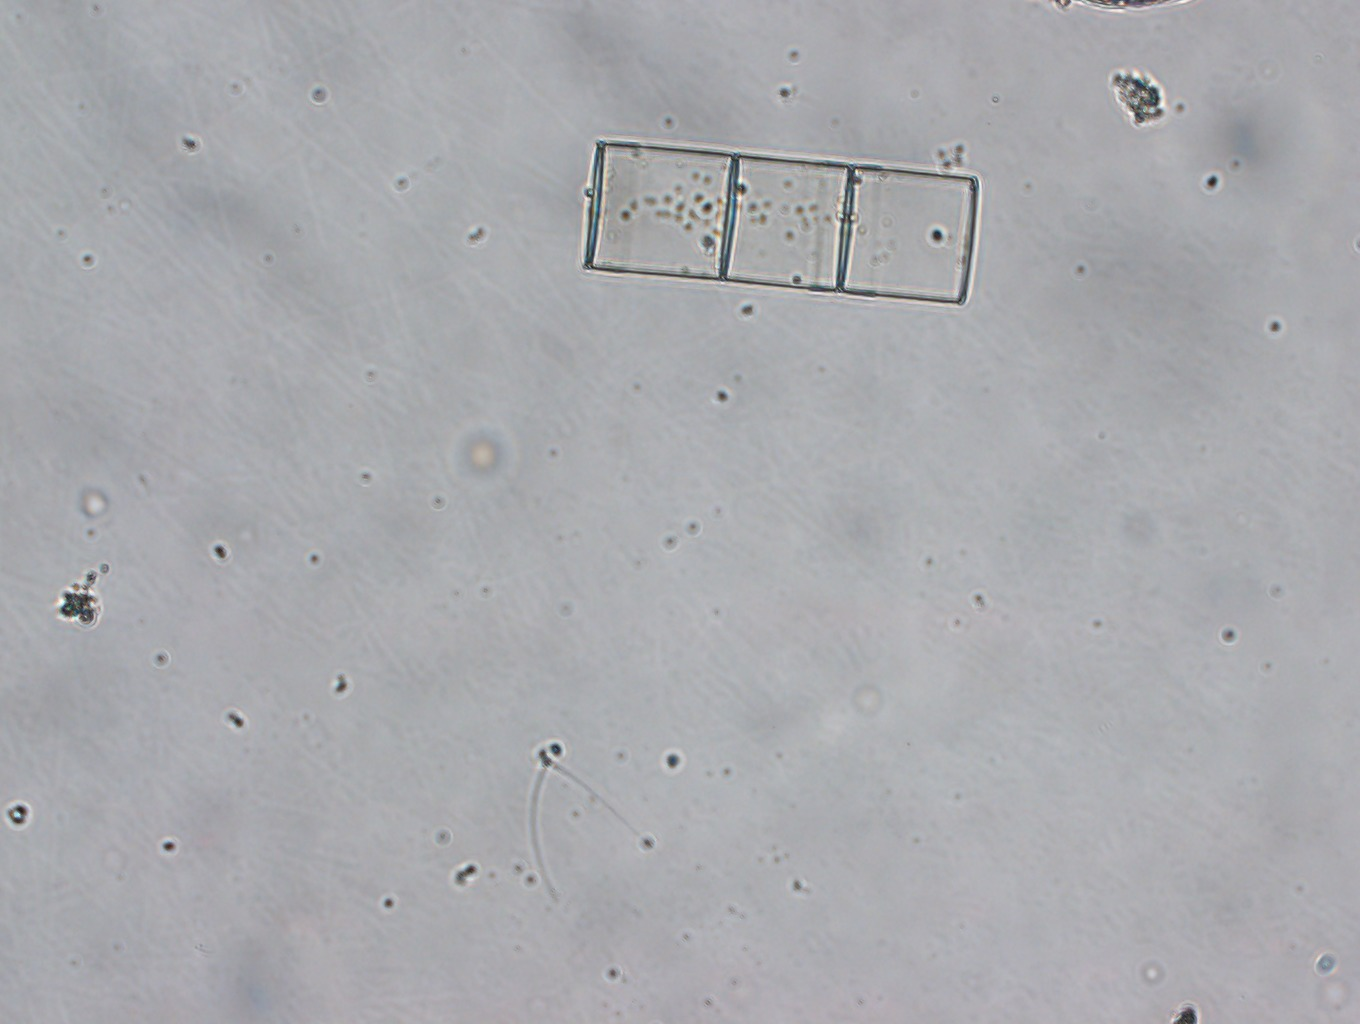guinardia flaccida: (579, 137, 980, 305)
